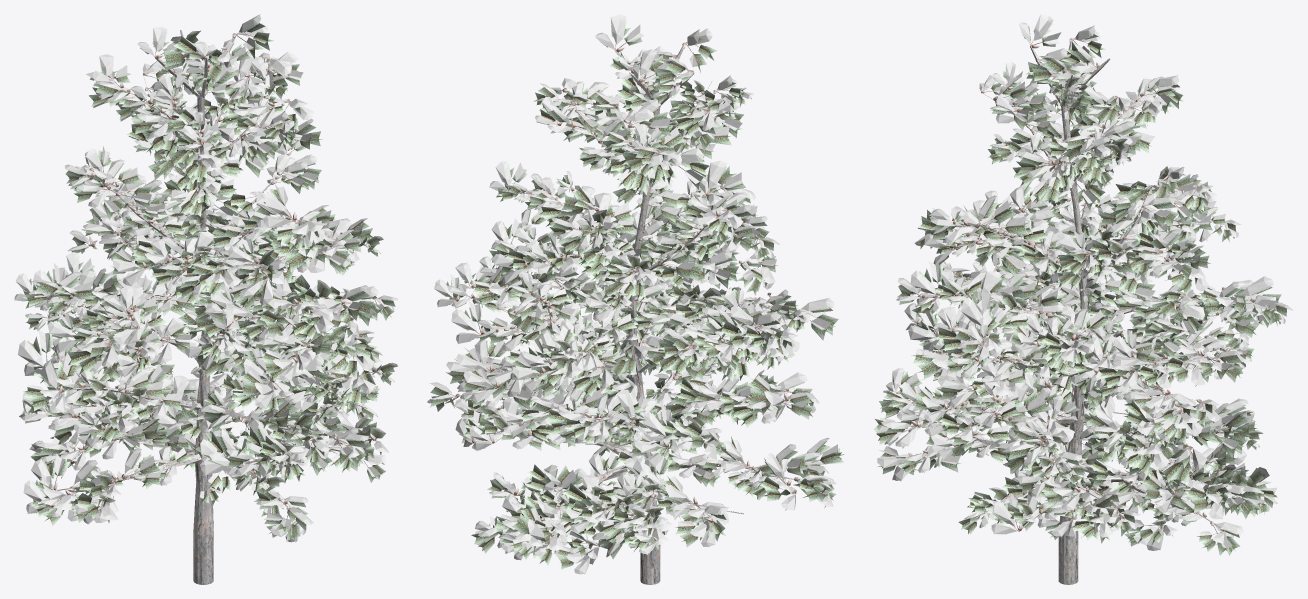
File: pineSnow.obj
3 renders of one model, left to right at view 1: azimuth 30°, elevation 25°; view 2: azimuth 150°, elevation 25°; view 3: azimuth 270°, elevation 25°, orthographic. The views are drawn at different scales.
Visible parts, largest first — view 1: twigs_leaves, tree; view 2: twigs_leaves, tree; view 3: twigs_leaves, tree.
Part boxes in pixels (x1=…): twigs_leaves: x1=14, y1=14, x2=397, y2=542; tree: x1=48, y1=30, x2=375, y2=584; twigs_leaves: x1=427, y1=14, x2=844, y2=574; tree: x1=456, y1=43, x2=816, y2=584; twigs_leaves: x1=873, y1=14, x2=1292, y2=555; tree: x1=900, y1=42, x2=1254, y2=584.
Size of the model in its own units: 375 by 546 by 379.
3 materials, 3 textured.
